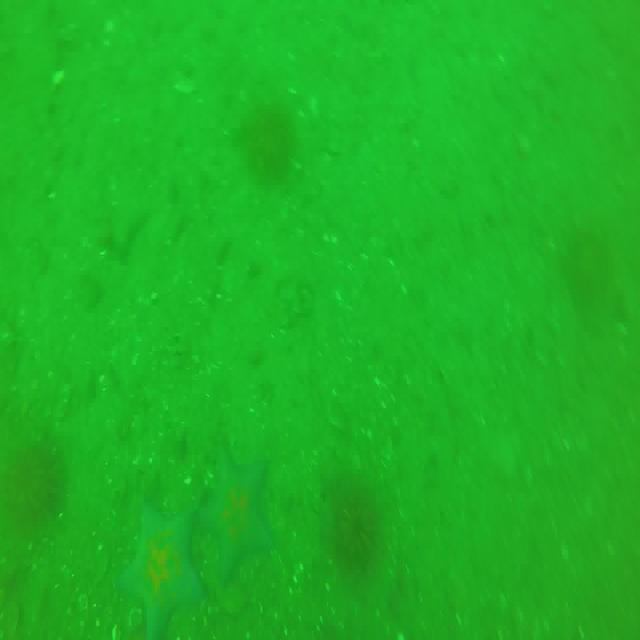echinus: (319, 472, 383, 568), (11, 429, 64, 520), (233, 104, 292, 171), (571, 233, 613, 310)
starfish: (113, 508, 205, 640), (201, 440, 268, 584)
